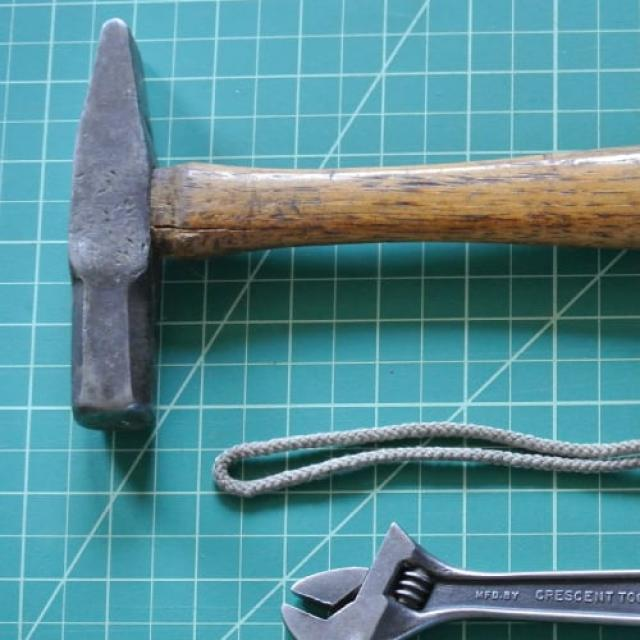hammer: (60, 9, 640, 456)
